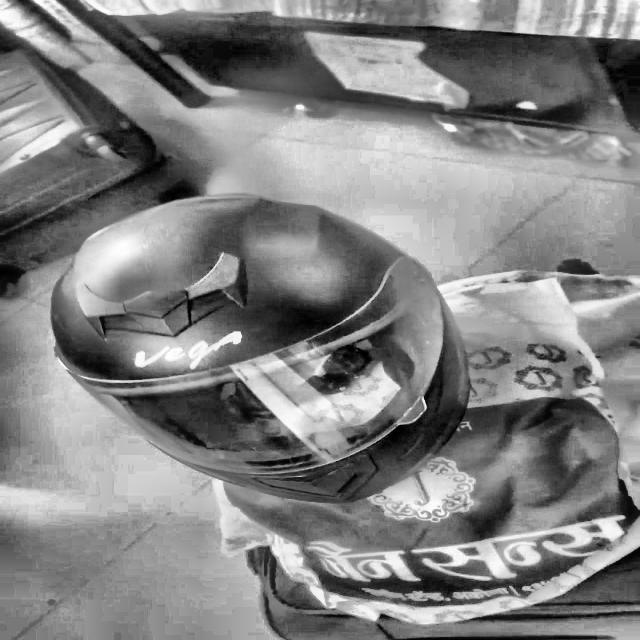Helmet: (38, 189, 485, 505)
